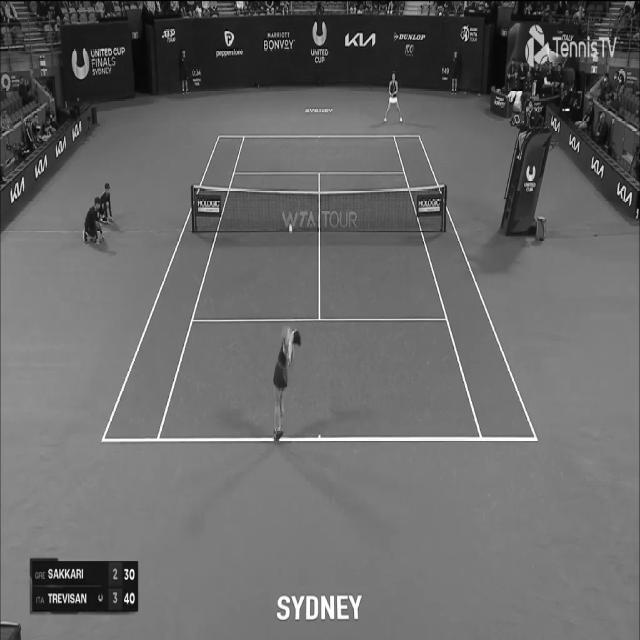tennis-court: (101, 135, 538, 441)
